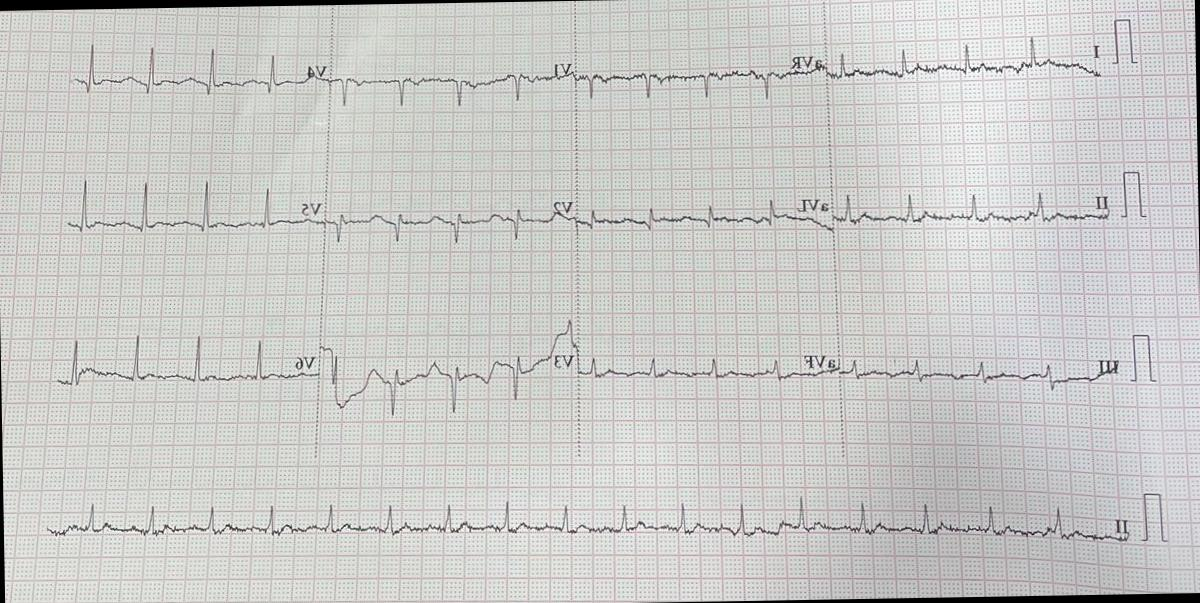Lead_I: (825, 20, 1111, 99)
Lead_II: (831, 174, 1116, 252)
Lead_III: (837, 337, 1127, 396)
Lead_II_ext: (31, 480, 1136, 576)
Lead_V1: (328, 46, 578, 122)
Lead_V2: (326, 179, 576, 262)
Lead_V3: (318, 302, 578, 427)
Lead_V4: (62, 31, 330, 119)
Lead_V5: (65, 160, 326, 258)
Lead_V6: (47, 314, 320, 405)
Lead_aVF: (575, 336, 842, 412)
Lead_aVL: (575, 177, 832, 255)
Lead_aVR: (572, 35, 827, 121)
